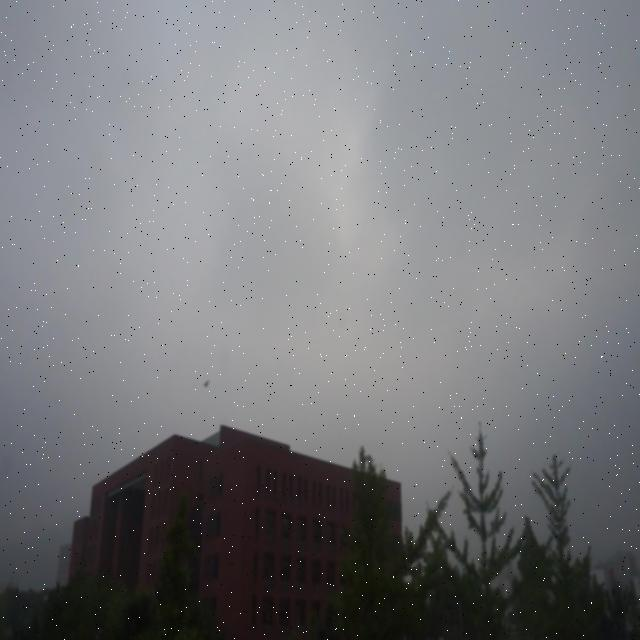UAV: (203, 380, 210, 389)
